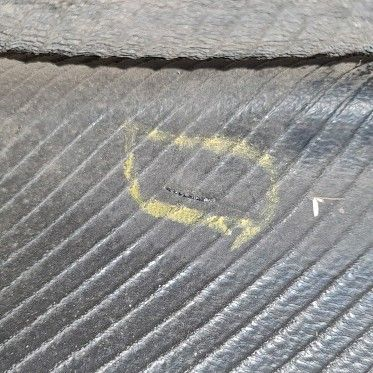cut: (157, 182, 252, 217)
